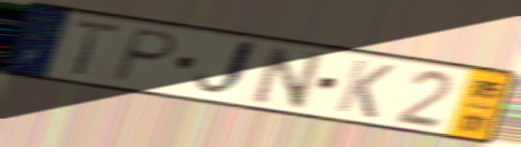2: (392, 68, 458, 131)
J: (190, 36, 261, 100)
K: (333, 57, 398, 121)
N: (250, 43, 327, 111)
P: (108, 26, 182, 85)
T: (69, 17, 127, 78)
